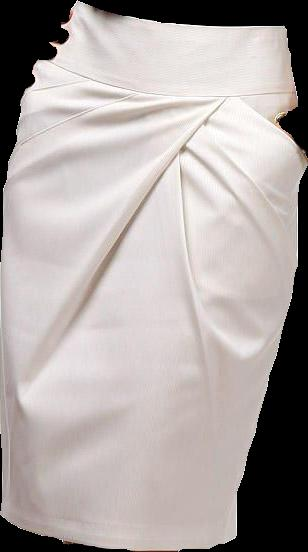Hemline: (0, 510, 237, 551)
Waistline: (38, 55, 299, 98), (75, 0, 289, 30)
